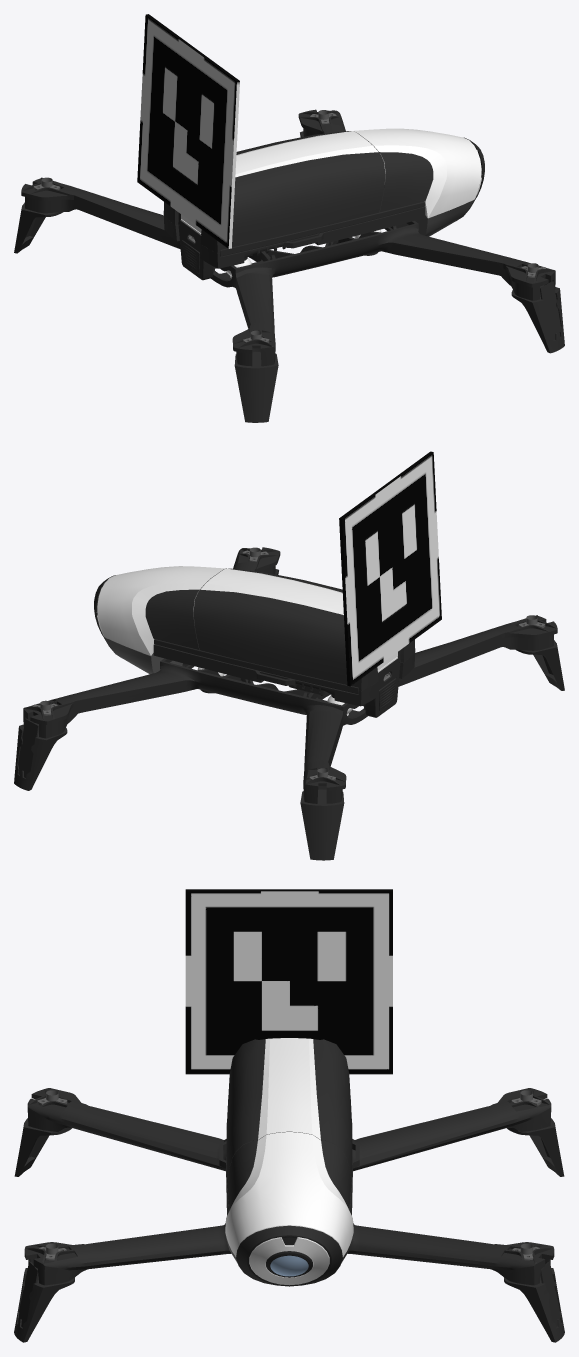
Rendered from bebop2_3.dae.
3 views of the same model, one above another, from view 1: azimuth 30°, elevation 25°; view 2: azimuth 150°, elevation 25°; view 3: azimuth 270°, elevation 25° (orthographic). The views are drawn at different scales.
Parts seen in each view (by area): view 1: Drone, Cube.001; view 2: Drone, Cube.001; view 3: Drone, Cube.001.
Part boxes in pixels (box(x1,y1,x2,y2)): Drone: box(14, 109, 564, 422); Cube.001: box(137, 14, 239, 248); Drone: box(14, 547, 564, 860); Cube.001: box(339, 451, 441, 686); Drone: box(14, 1038, 564, 1342); Cube.001: box(185, 889, 392, 1074).
Bounding box in the file's own units: 0.22 × 0.2657 × 0.1657.
Materials: 6 (1 with a texture image).
